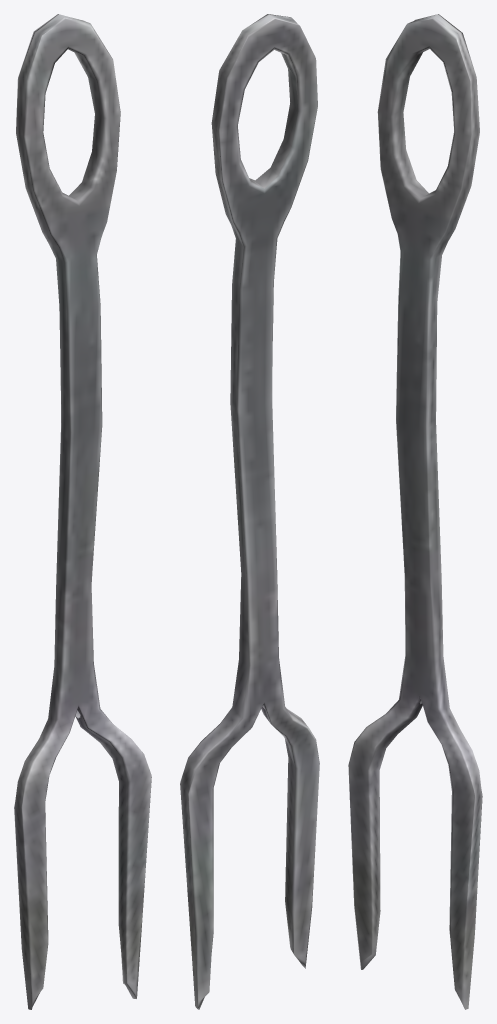
The picture shows the model from 3 angles, left to right: view 1: azimuth 30°, elevation 25°; view 2: azimuth 210°, elevation 25°; view 3: azimuth 330°, elevation 25°; orthographic projection. The views are drawn at different scales.
Visible parts, largest first — view 1: SM_Cookware_CastIron_Fork_01_LOD0; view 2: SM_Cookware_CastIron_Fork_01_LOD0; view 3: SM_Cookware_CastIron_Fork_01_LOD0.
Boxes of the visible parts, x1,y1,x2,y2 form: SM_Cookware_CastIron_Fork_01_LOD0: [14, 14, 151, 1009]; SM_Cookware_CastIron_Fork_01_LOD0: [180, 14, 319, 1009]; SM_Cookware_CastIron_Fork_01_LOD0: [348, 14, 482, 1009].
Bounding box in the file's own units: 0.0668 × 0.4823 × 0.0264.
1 material, 1 textured.
